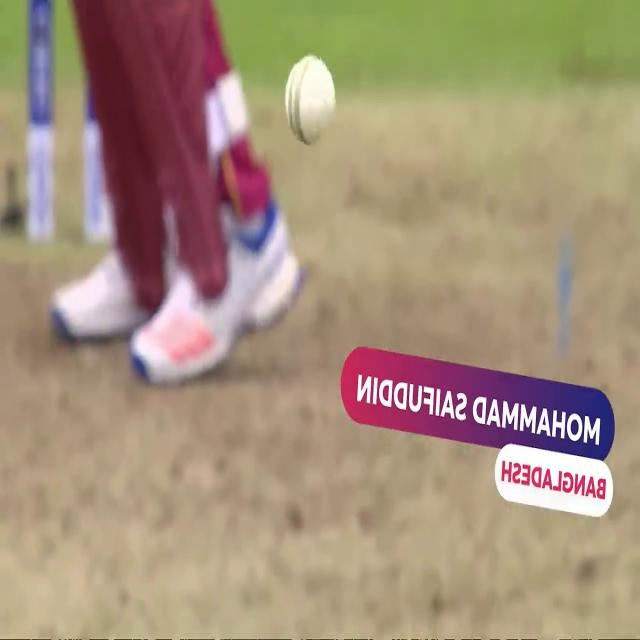ball: (282, 50, 340, 146)
